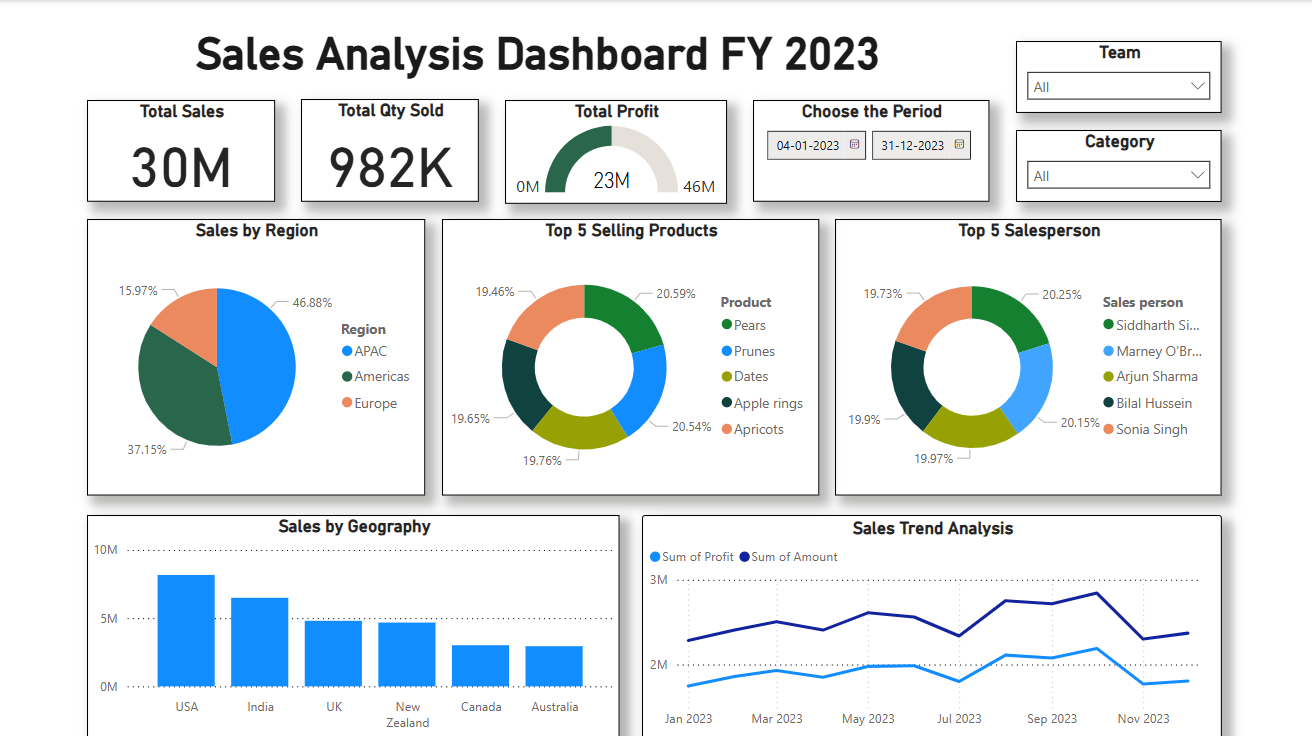

Layout of this report page (visuals, bound fields, positions):
{"tool":"powerbi","page":{"name":"Page 1","canvas":[1280,720],"ordinal":0},"visuals":[{"type":"columnChart","title":"Sales by Geography","fields":{"Category":["sales.Geography"],"Y":["Sum(sales.Amount)"]},"box":[88.5,500.9,518.4,218.8],"z":0},{"type":"pieChart","title":"Sales by Region","fields":{"Y":["Sum(sales.Amount)"],"Category":["Locations.Region"]},"box":[88.5,213,328.8,269.4],"z":1000},{"type":"donutChart","title":"Top 5 Salesperson","fields":{"Category":["EmployeeData.Sales person"],"Y":["Sum(sales.Amount)"]},"box":[816,213,376.4,269.4],"z":2000},{"type":"lineChart","title":"Sales Trend Analysis","fields":{"Category":["sales.Date.Variation.Date Hierarchy.Year","sales.Date.Variation.Date Hierarchy.Quarter","sales.Date.Variation.Date Hierarchy.Month","sales.Date.Variation.Date Hierarchy.Day"],"Y":["Sum(sales.Profit)","Sum(sales.Amount)"]},"box":[628.3,500.9,564.1,218.8],"z":3000},{"type":"card","title":"Total Sales","fields":{"Values":["Sum(sales.Amount)"]},"box":[88.5,97.3,182.9,99.2],"z":4000},{"type":"card","title":"Total Qty Sold","fields":{"Values":["Sum(sales.Boxes)"]},"box":[296.7,96.3,173.1,100.2],"z":5000},{"type":"slicer","title":"Choose the Period","fields":{"Values":["sales.Date"]},"box":[736.3,97.3,229.5,99.2],"z":6000},{"type":"slicer","title":"Team","fields":{"Values":["EmployeeData.Team"]},"box":[992.1,39.9,200.4,70],"z":7000},{"type":"slicer","title":"Category","fields":{"Values":["sales.Product"]},"box":[992.1,126.4,200.4,70],"z":8000},{"type":"gauge","title":"Total Profit","fields":{"Y":["Sum(sales.Profit)"]},"box":[495.1,97.3,215.9,101.2],"z":9000},{"type":"donutChart","title":"Top 5 Selling Products","fields":{"Category":["sales.Product"],"Y":["Sum(sales.Amount)"]},"box":[433.8,213,366.7,269.4],"z":10000},{"type":"textbox","box":[88.5,22.4,877.3,60.3],"z":11000}]}

Visuals, with their boxes in screenshot pixels (x1, y1, x2, y2), scaled from the page's 1280x720 canvas onto the 1312x736 screenshot:
"Sales by Geography" columnChart: 91 512 622 735
"Sales by Region" pieChart: 91 218 428 493
"Top 5 Salesperson" donutChart: 836 218 1222 493
"Sales Trend Analysis" lineChart: 644 512 1222 735
"Total Sales" card: 91 99 278 201
"Total Qty Sold" card: 304 98 482 201
"Choose the Period" slicer: 755 99 990 201
"Team" slicer: 1017 41 1222 112
"Category" slicer: 1017 129 1222 201
"Total Profit" gauge: 507 99 729 203
"Top 5 Selling Products" donutChart: 445 218 821 493
textbox: 91 23 990 85
